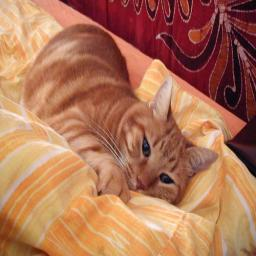catnose: (136, 174, 148, 191)
